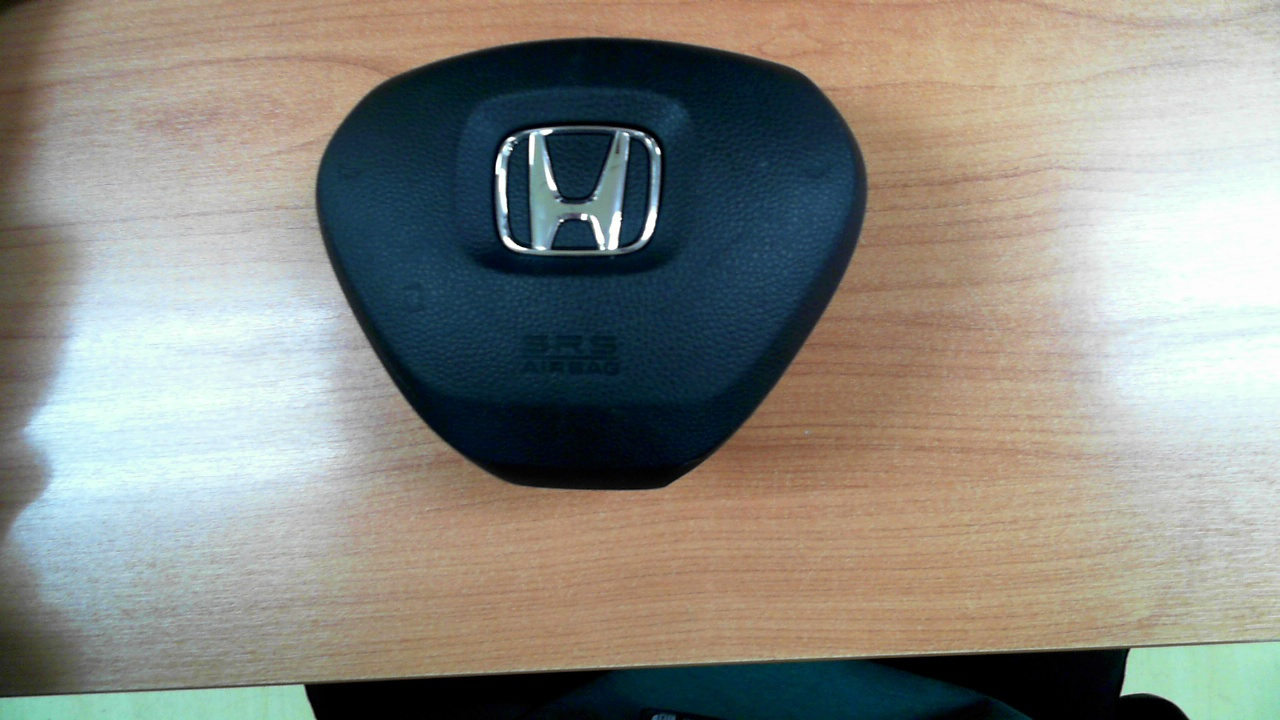Airbag: (314, 37, 868, 491)
Honda: (495, 125, 662, 256)
